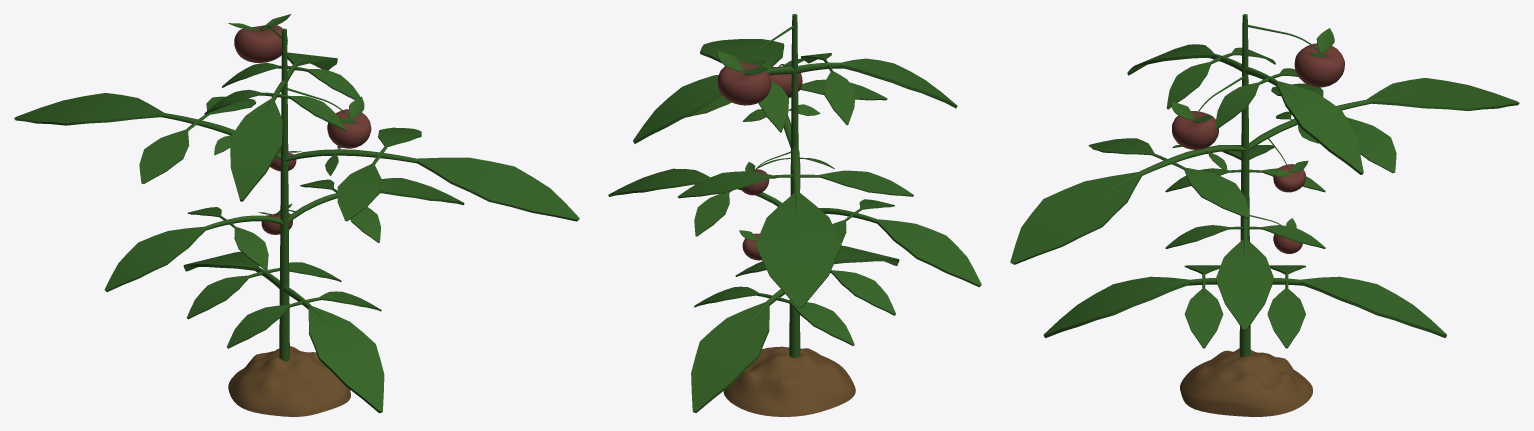
The model's file is TOMATO_full_grow.fbx.
The picture shows the model from 3 angles, left to right: view 1: azimuth 30°, elevation 25°; view 2: azimuth 150°, elevation 25°; view 3: azimuth 270°, elevation 25°; orthographic projection. The views are drawn at different scales.
Parts seen in each view (by area): view 1: pCylinder21; view 2: pCylinder21; view 3: pCylinder21.
Boxes of the visible parts, left/top/right/bottom form: pCylinder21: left=14, top=14, right=579, bottom=416; pCylinder21: left=608, top=14, right=981, bottom=416; pCylinder21: left=1010, top=14, right=1519, bottom=416.
Size of the model in its own units: 3.2 by 3.05 by 3.77.
